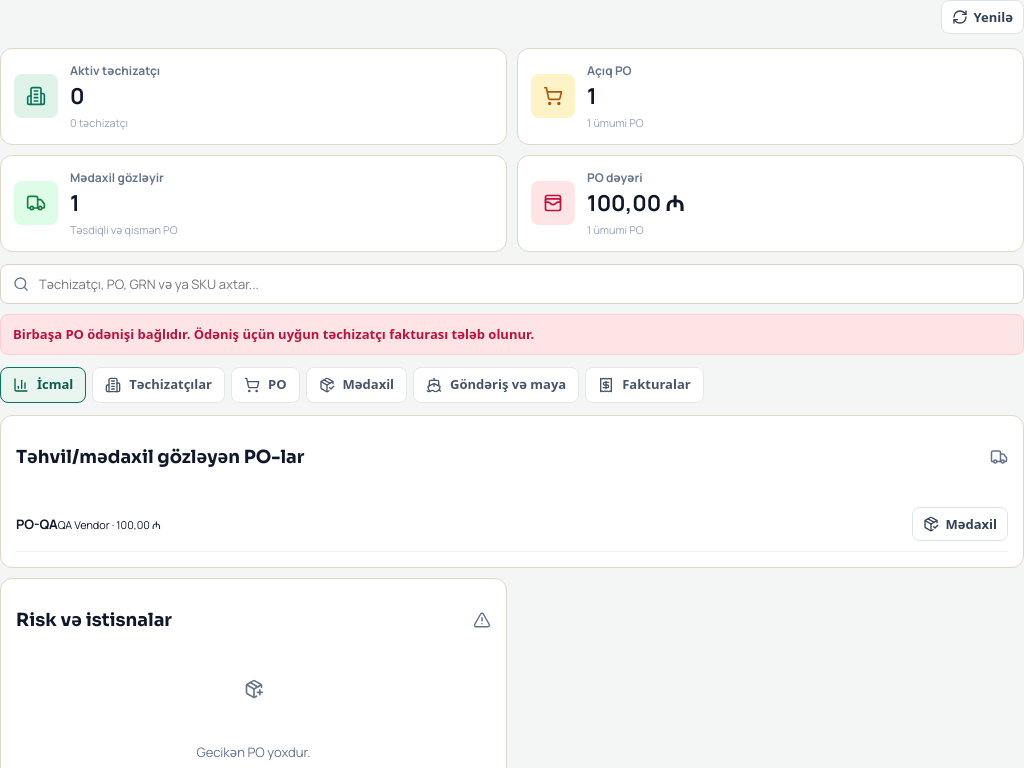
Test case: requires an explicitly selected tax account and recoverability confirmation before the atomic VAT command
This screenshot has width=1024, height=768.
Later steps or results of the test are not shown.
Click the button "Fakturalar".
click(644, 385)  # box [585,367,704,403]
(page scrolled)
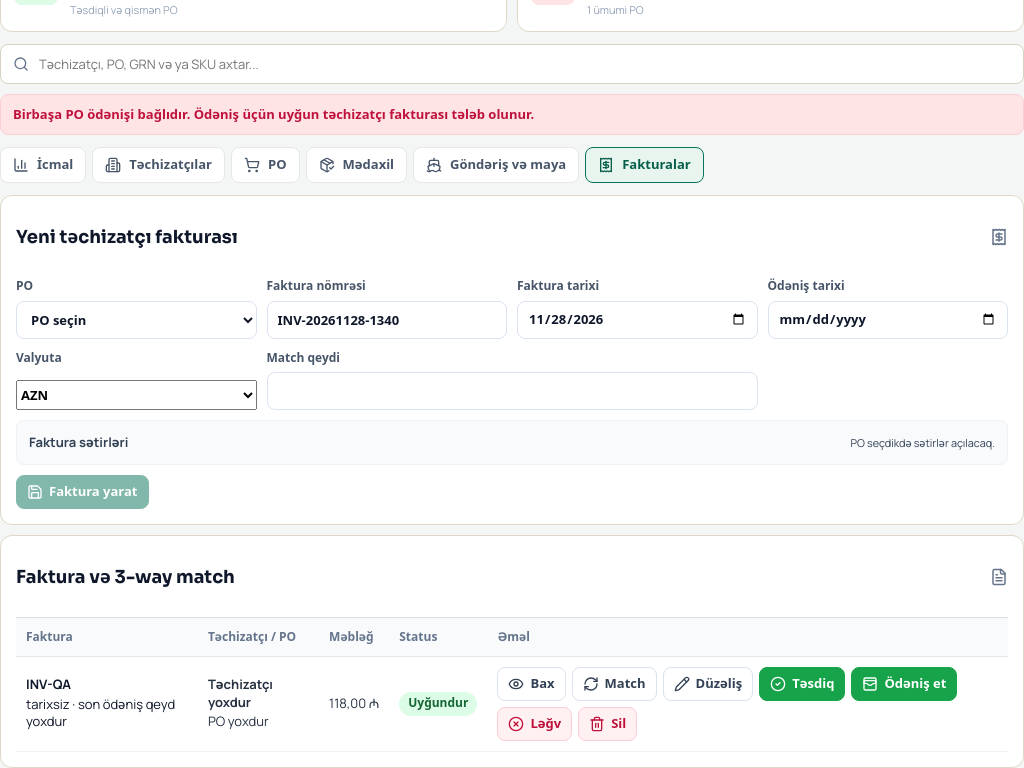
Click the button "Ödəniş et".
click(904, 684)  # box [851,666,957,700]
(page scrolled)
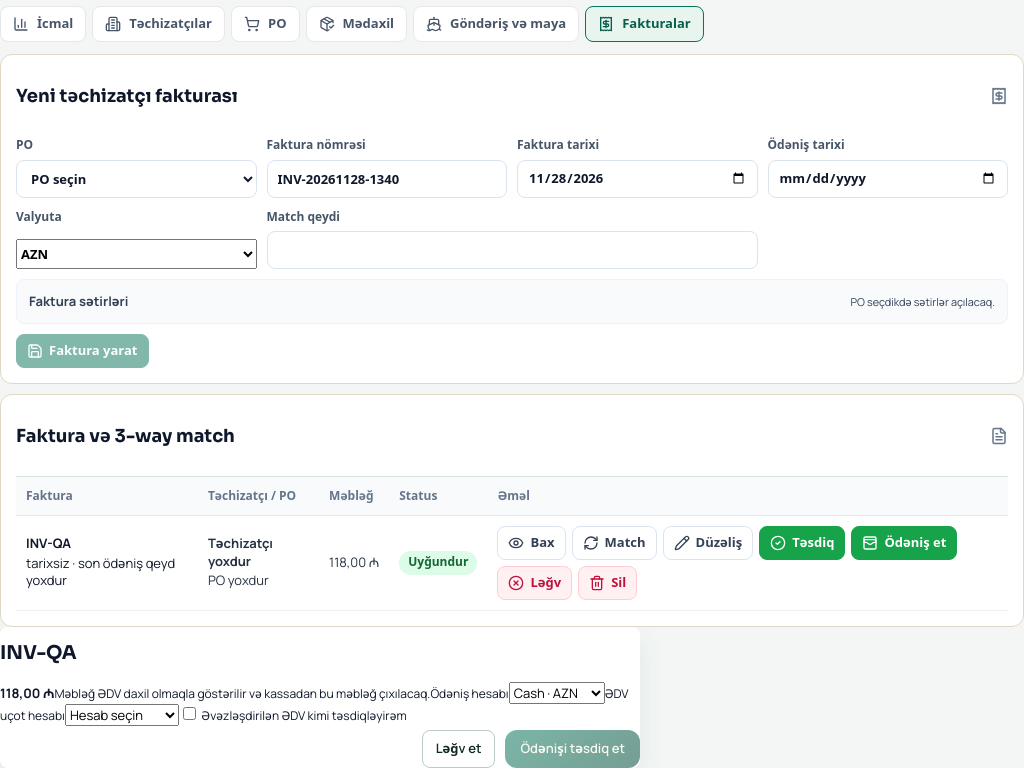
Now the button "Ödənişi təsdiq et" is disabled, box [505,730,640,767]
Select "1530 · Input VAT" in the dropdown labelled "ƏDV uçot hesabı" at (122, 715), box [65,704,179,726]
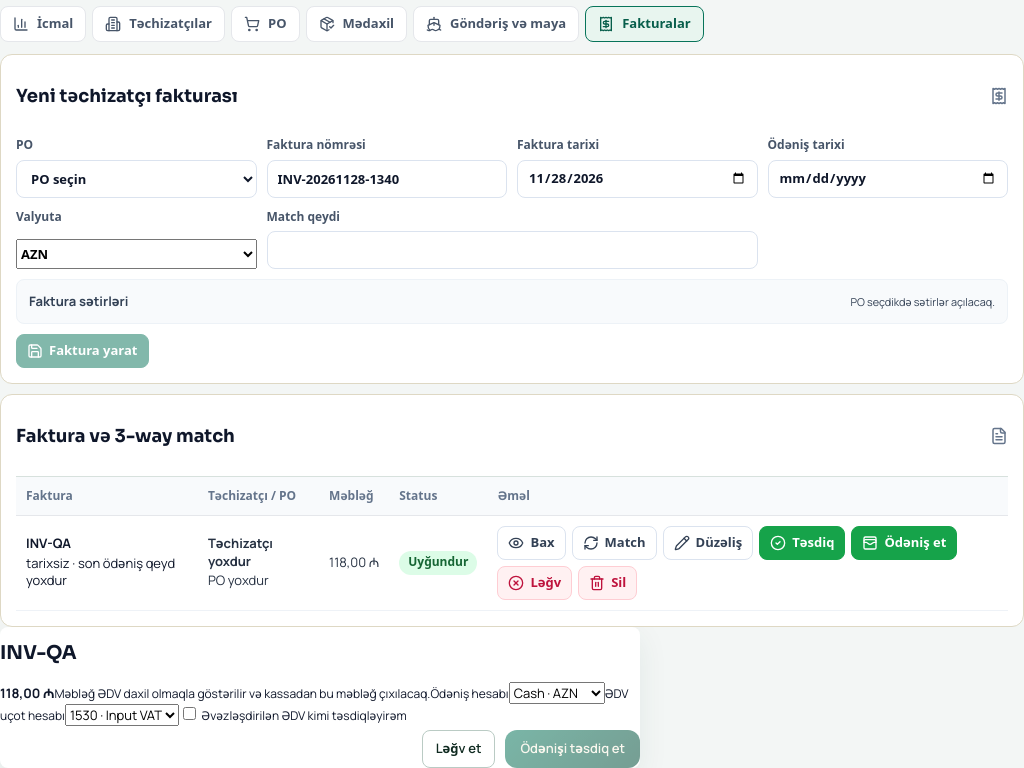
Now the button "Ödənişi təsdiq et" is disabled, box [505,730,640,767]
Click the checkbox.
click(189, 713)  # box [183,707,196,720]
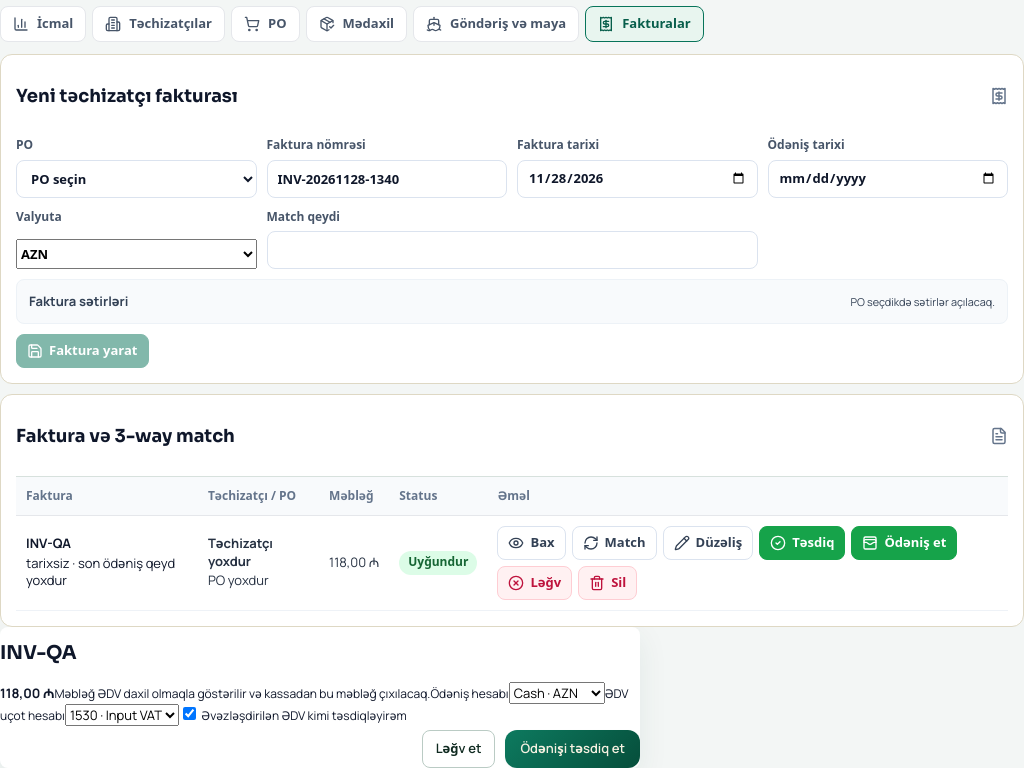
Now the button "Ödənişi təsdiq et" is enabled, box [505,730,640,767]
